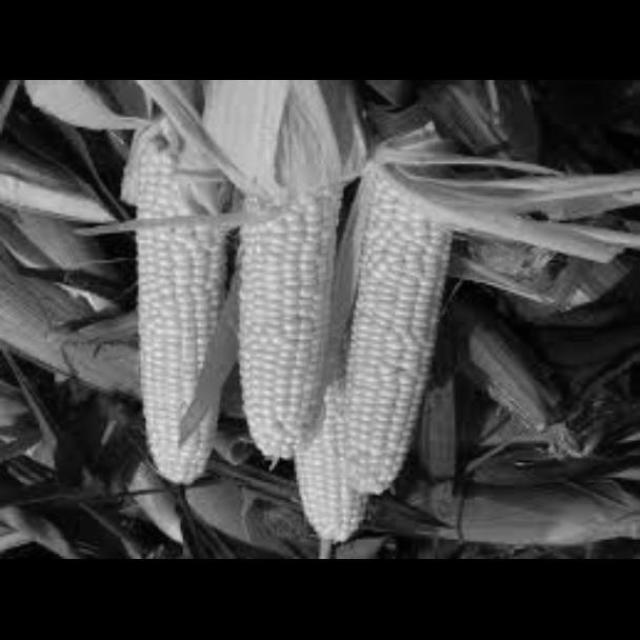cereal: (326, 148, 468, 505), (119, 121, 237, 494), (226, 157, 353, 477), (284, 392, 373, 556)
